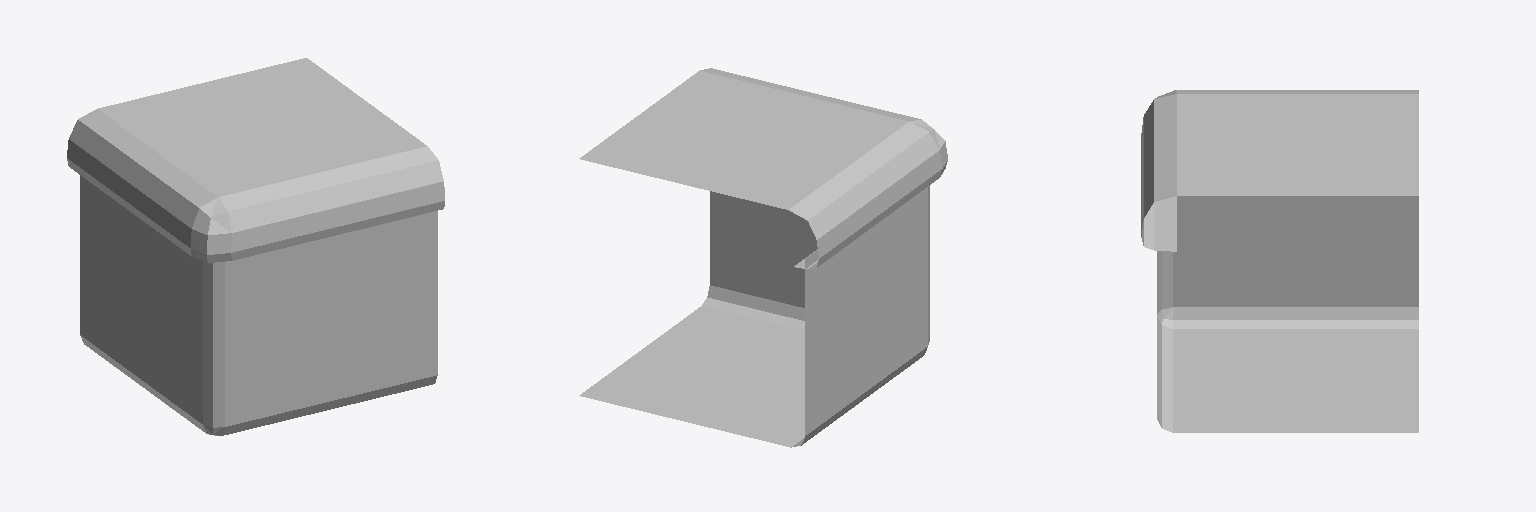
File: cube_grass_corner_bottomLeft.obj
The picture shows the model from 3 angles: view 1: azimuth 30°, elevation 25°; view 2: azimuth 150°, elevation 25°; view 3: azimuth 270°, elevation 25°; orthographic projection.
Parts seen in each view (by area): view 1: cube_grass_corner.003; view 2: cube_grass_corner.003; view 3: cube_grass_corner.003.
Part boxes in pixels (left/top/right/bottom): cube_grass_corner.003: left=67, top=58, right=444, bottom=435; cube_grass_corner.003: left=579, top=68, right=947, bottom=447; cube_grass_corner.003: left=1141, top=90, right=1418, bottom=432.
Size of the model in its own units: 1.06 by 0.998 by 1.06.